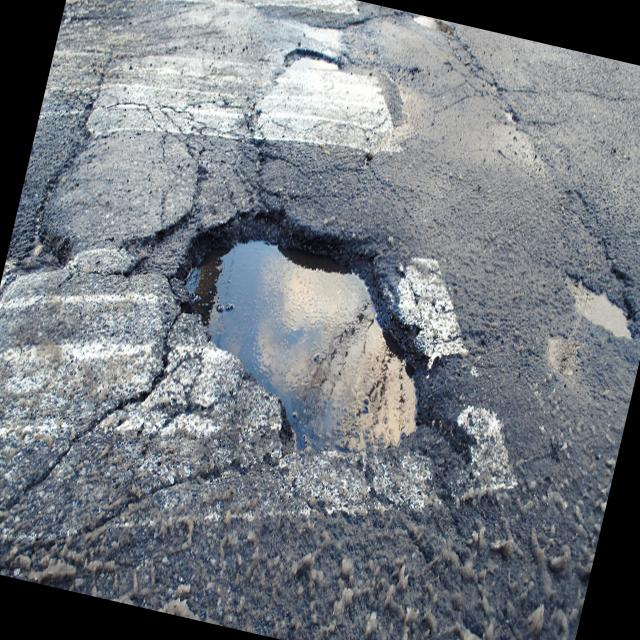Potholes: (121, 163, 468, 516), (547, 246, 640, 374)
